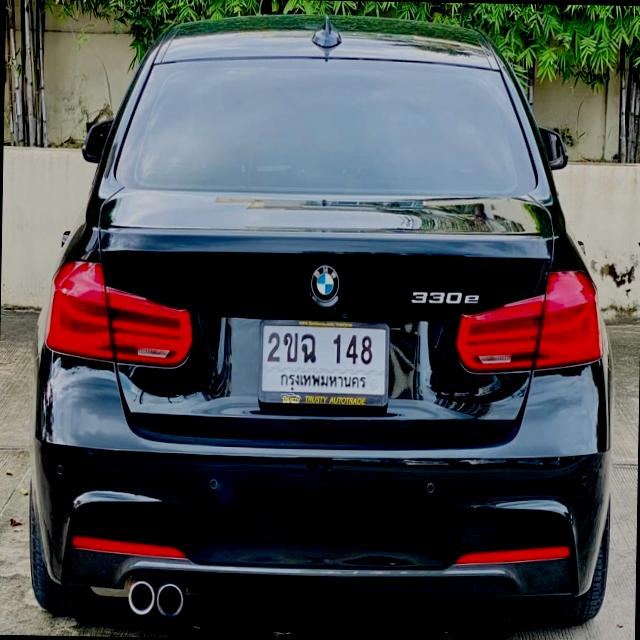license_plate: (256, 312, 391, 411)
